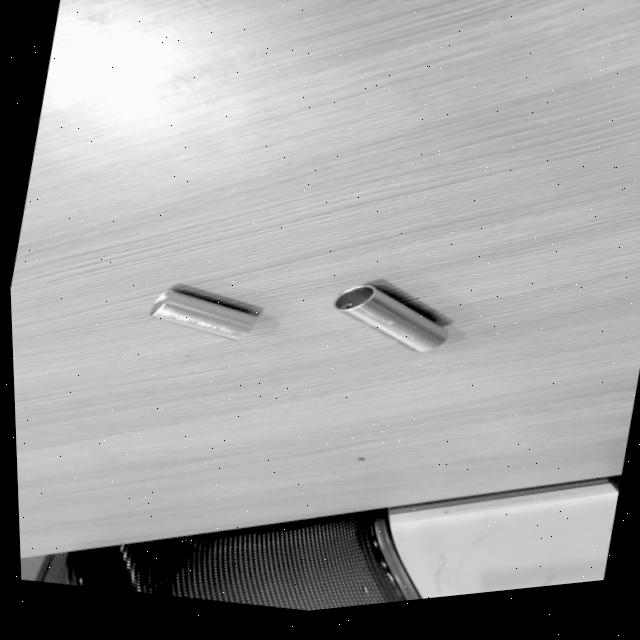Co_Lon: (332, 273, 450, 364)
Co_Nho: (149, 285, 257, 344)
